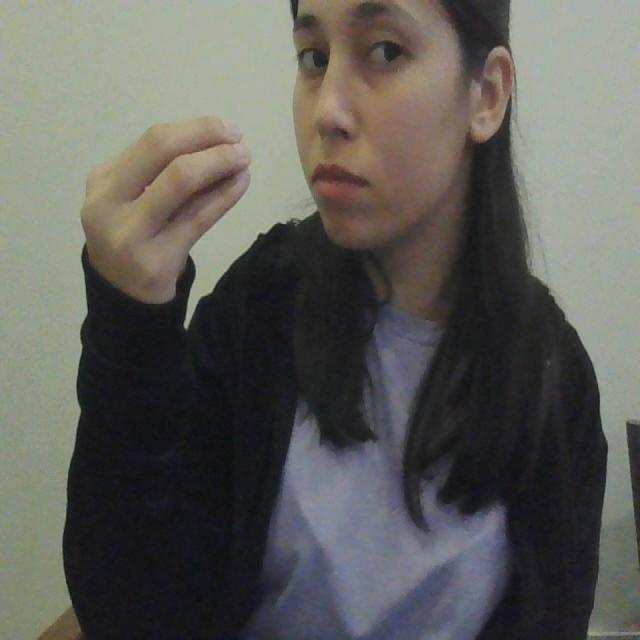Yemek: (88, 104, 334, 241)
